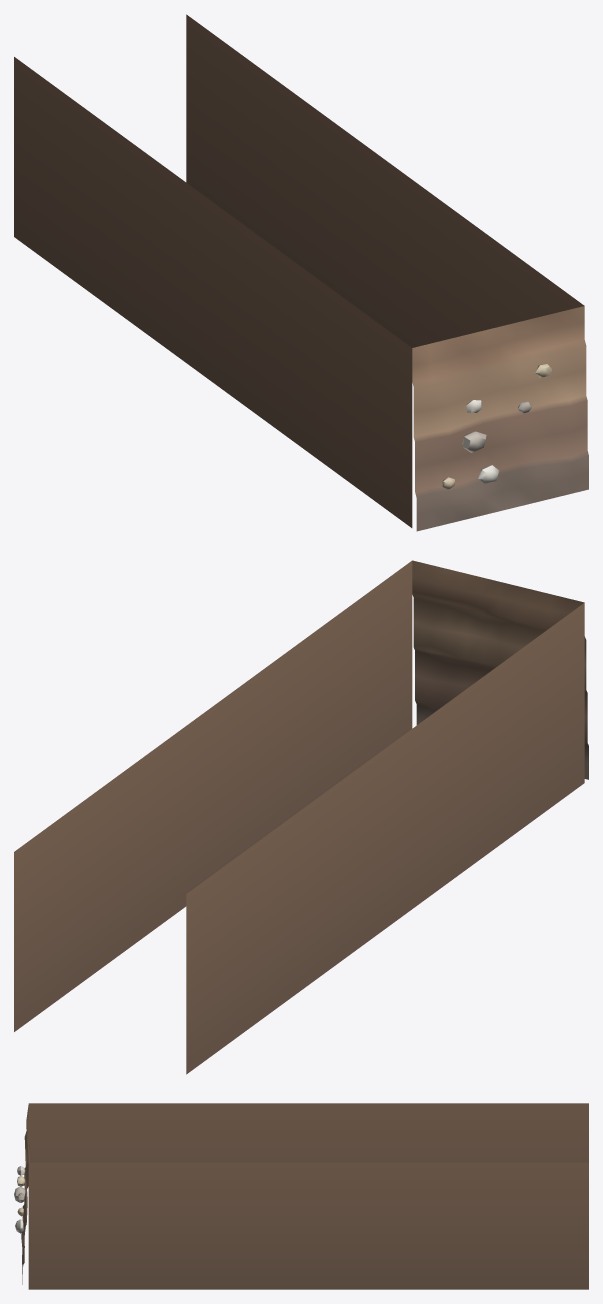
File: ground_earth_0.glb
3 renders of one model, top to bottom at view 1: azimuth 30°, elevation 25°; view 2: azimuth 150°, elevation 25°; view 3: azimuth 270°, elevation 25°, orthographic. The views are drawn at different scales.
Parts seen in each view (by area): view 1: ground_earth_0; view 2: ground_earth_0; view 3: ground_earth_0.
Part boxes in pixels (box(x1,y1,x2,y2)): ground_earth_0: box(14, 14, 588, 531); ground_earth_0: box(14, 560, 588, 1074); ground_earth_0: box(14, 1103, 588, 1289).
Bounding box in the file's own units: 1 × 1 × 4.1.
